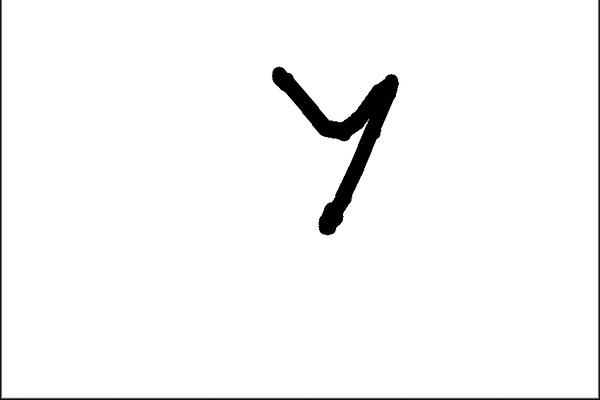Y: (263, 59, 401, 248)
